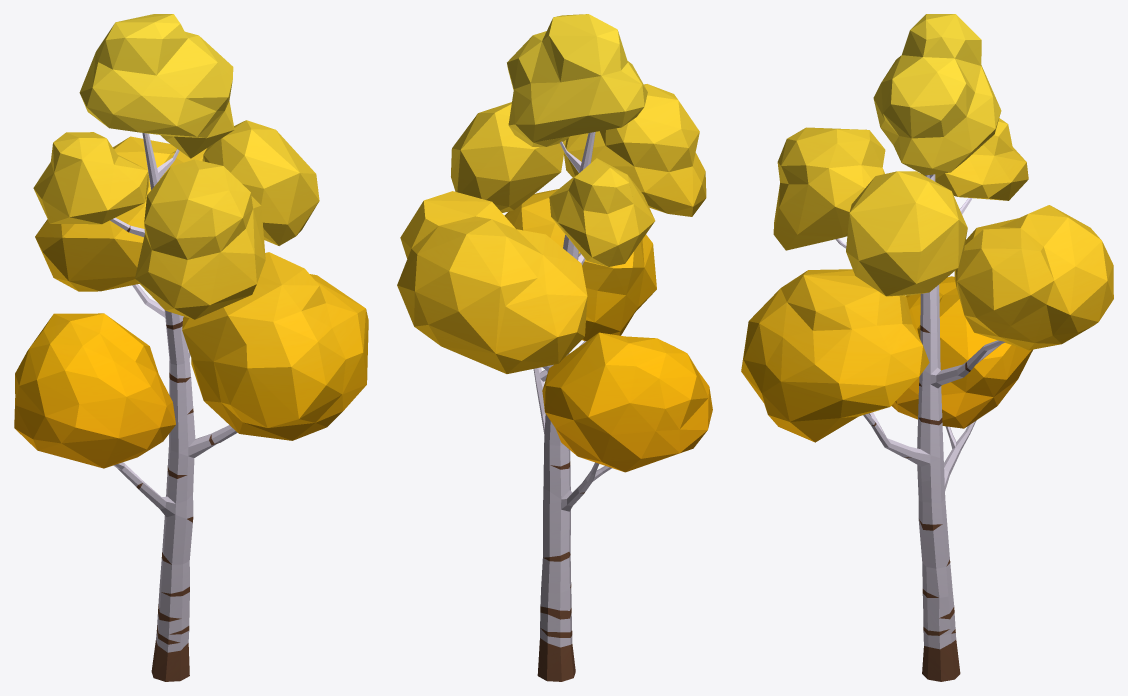
Rendered from Tree_Birch_01.fbx.
3 views of the same model, side by side, from view 1: azimuth 30°, elevation 25°; view 2: azimuth 150°, elevation 25°; view 3: azimuth 270°, elevation 25° (orthographic). The views are drawn at different scales.
Parts seen in each view (by area): view 1: Tree_Birch_01; view 2: Tree_Birch_01; view 3: Tree_Birch_01.
Part boxes in pixels (box(x1,y1,x2,y2)): Tree_Birch_01: box(14, 14, 368, 681); Tree_Birch_01: box(397, 14, 712, 681); Tree_Birch_01: box(741, 14, 1113, 681).
Size of the model in its own units: 334 by 725 by 381.
